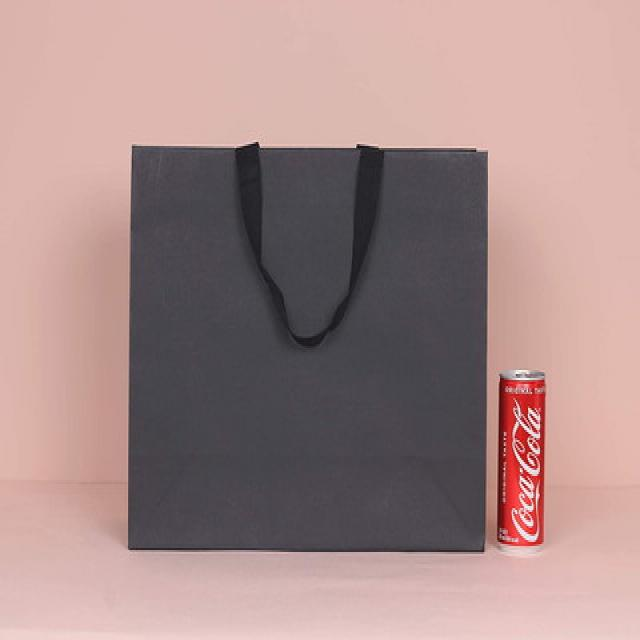paper bag: (126, 132, 487, 558)
